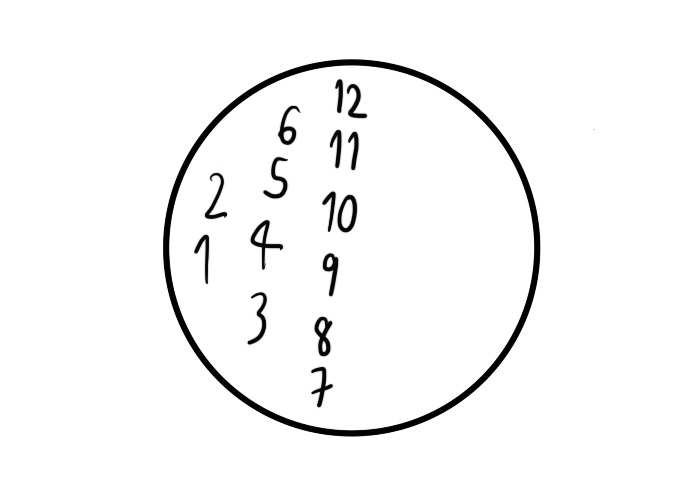eight: (312, 311, 334, 359)
eleven: (327, 127, 360, 175)
five: (264, 153, 289, 200)
four: (248, 213, 284, 272)
nine: (320, 251, 340, 297)
one: (193, 230, 216, 289)
seven: (307, 364, 334, 411)
six: (277, 101, 302, 148)
ten: (321, 185, 361, 238)
three: (246, 291, 268, 347)
twelve: (330, 75, 372, 122)
two: (203, 169, 229, 219)
